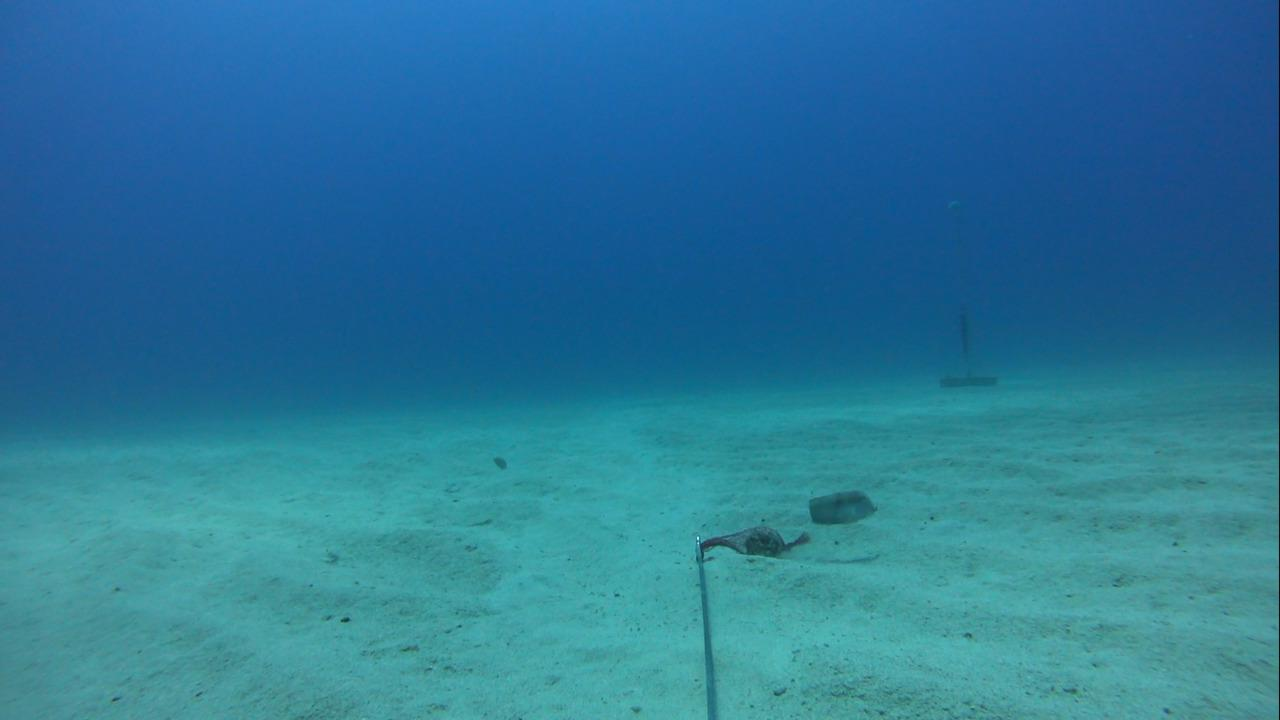raor: (795, 484, 884, 530)
